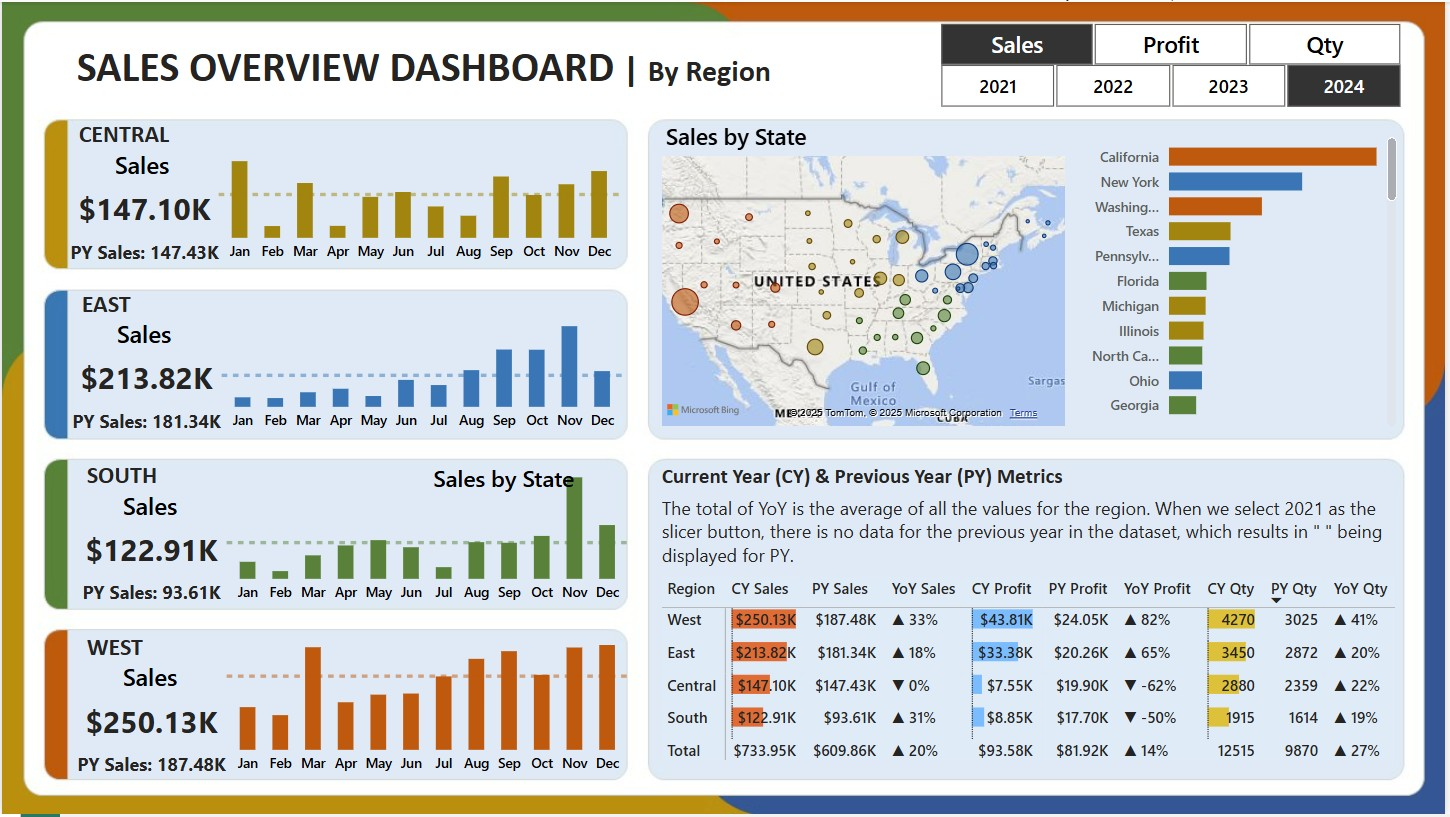

What the dashboard file says about the page in this screenshot:
{"tool":"powerbi","page":{"name":"Page 1","canvas":[1280,720],"ordinal":0},"visuals":[{"type":"slicer","fields":{"Values":["Select Matric.Select Matric"]},"box":[807.1,12.3,457.3,47.6],"z":0},{"type":"card","fields":{"Values":["Calculated Measures.Total Sales"]},"box":[47.6,162.6,156.5,44.5],"z":1000},{"type":"textbox","box":[62.9,99.7,124.3,46],"z":2000},{"type":"slicer","fields":{"Values":["Calender Table.Year"]},"box":[807.1,49.1,457.3,50.6],"z":3000},{"type":"card","fields":{"Values":["Calculated Measures.Dynamic Title"]},"box":[75.2,130.4,98.2,32.2],"z":4000},{"type":"card","fields":{"Values":["Calculated Measures.PY KPI Sales"]},"box":[47.6,207.1,156.5,32.2],"z":5000},{"type":"clusteredColumnChart","fields":{"Y":["Calculated Measures.Total Sales"],"Category":["Calender Table.Month"]},"box":[187.2,101.3,366.7,138.1],"z":6000},{"type":"textbox","box":[61.5,28.8,636,71.1],"z":7000},{"type":"card","fields":{"Values":["Calculated Measures.Total Sales"]},"box":[49.9,312.5,156.5,44.5],"z":8000},{"type":"textbox","box":[65.2,249.6,124.3,46],"z":9000},{"type":"card","fields":{"Values":["Calculated Measures.Dynamic Title"]},"box":[77.5,280.3,98.2,32.2],"z":10000},{"type":"card","fields":{"Values":["Calculated Measures.PY KPI Sales"]},"box":[49.9,357,156.5,32.2],"z":11000},{"type":"clusteredColumnChart","fields":{"Y":["Calculated Measures.Total Sales"],"Category":["Calender Table.Month"]},"box":[189.5,251.1,366.7,138.1],"z":12000},{"type":"card","fields":{"Values":["Calculated Measures.Total Sales"]},"box":[54.5,464.7,156.5,44.5],"z":13000},{"type":"textbox","box":[69.8,401.8,124.3,46],"z":14000},{"type":"card","fields":{"Values":["Calculated Measures.Dynamic Title"]},"box":[82.1,432.5,98.2,32.2],"z":15000},{"type":"card","fields":{"Values":["Calculated Measures.PY KPI Sales"]},"box":[54.5,509.2,156.5,32.2],"z":16000},{"type":"clusteredColumnChart","fields":{"Y":["Calculated Measures.Total Sales"],"Category":["Calender Table.Month"]},"box":[194.1,403.3,366.7,138.1],"z":17000},{"type":"card","fields":{"Values":["Calculated Measures.Total Sales"]},"box":[54.5,616.9,156.5,44.5],"z":18000},{"type":"textbox","box":[69.8,554,124.3,46],"z":19000},{"type":"card","fields":{"Values":["Calculated Measures.Dynamic Title"]},"box":[82.1,584.6,98.2,32.2],"z":20000},{"type":"card","fields":{"Values":["Calculated Measures.PY KPI Sales"]},"box":[54.5,661.4,156.5,32.2],"z":21000},{"type":"clusteredColumnChart","fields":{"Y":["Calculated Measures.Total Sales"],"Category":["Calender Table.Month"]},"box":[194.1,555.5,366.7,138.1],"z":22000},{"type":"map","fields":{"Size":["Calculated Measures.Total Sales"],"Series":["Sales Data.Region"],"Category":["Sales Data.State/Province"]},"box":[580.1,131.2,368.2,249.7],"z":23000},{"type":"card","fields":{"Values":["Calculated Measures.MAP Dynamic Title"]},"box":[557.2,96.1,188.3,50],"z":24000},{"type":"barChart","fields":{"Y":["Calculated Measures.Total Sales"],"Category":["Sales Data.State/Province"],"Series":["Sales Data.Region"]},"box":[948.3,107.2,292.6,273.7],"z":25000},{"type":"card","fields":{"Values":["Calculated Measures.MAP Dynamic Title"]},"box":[349.8,408.2,188.7,32.2],"z":26000},{"type":"pivotTable","fields":{"Values":["Calculated Measures.CY Sales","Calculated Measures.PY Sales","Calculated Measures.YoY Sales","Calculated Measures.CY Profit","Calculated Measures.PY Profit","Calculated Measures.YoY Profit","Calculated Measures.CY Qty","Calculated Measures.PY Qty","Calculated Measures.YoY Qty"],"Rows":["Sales Data.Region"]},"box":[580,504.4,660.8,189.2],"z":27000},{"type":"textbox","box":[580,403.6,380.5,46],"z":28000},{"type":"textbox","box":[580,432.7,661.3,76.7],"z":28001}]}

Visuals, with their boxes in screenshot pixels (x1, y1, x2, y2), scaled from the page's 1280x720 canvas onto the 1450x817 screenshot:
slicer - Select Matric.Select Matric: BBox(914, 14, 1432, 68)
card - Calculated Measures.Total Sales: BBox(54, 185, 231, 235)
textbox: BBox(71, 113, 212, 165)
slicer - Calender Table.Year: BBox(914, 56, 1432, 113)
card - Calculated Measures.Dynamic Title: BBox(85, 148, 196, 185)
card - Calculated Measures.PY KPI Sales: BBox(54, 235, 231, 272)
clusteredColumnChart - Calculated Measures.Total Sales x Calender Table.Month: BBox(212, 115, 627, 272)
textbox: BBox(70, 33, 790, 113)
card - Calculated Measures.Total Sales: BBox(57, 355, 234, 405)
textbox: BBox(74, 283, 215, 335)
card - Calculated Measures.Dynamic Title: BBox(88, 318, 199, 355)
card - Calculated Measures.PY KPI Sales: BBox(57, 405, 234, 442)
clusteredColumnChart - Calculated Measures.Total Sales x Calender Table.Month: BBox(215, 285, 630, 442)
card - Calculated Measures.Total Sales: BBox(62, 527, 239, 578)
textbox: BBox(79, 456, 220, 508)
card - Calculated Measures.Dynamic Title: BBox(93, 491, 204, 527)
card - Calculated Measures.PY KPI Sales: BBox(62, 578, 239, 614)
clusteredColumnChart - Calculated Measures.Total Sales x Calender Table.Month: BBox(220, 458, 635, 614)
card - Calculated Measures.Total Sales: BBox(62, 700, 239, 751)
textbox: BBox(79, 629, 220, 681)
card - Calculated Measures.Dynamic Title: BBox(93, 663, 204, 700)
card - Calculated Measures.PY KPI Sales: BBox(62, 751, 239, 787)
clusteredColumnChart - Calculated Measures.Total Sales x Calender Table.Month: BBox(220, 630, 635, 787)
map - Calculated Measures.Total Sales x Sales Data.Region: BBox(657, 149, 1074, 432)
card - Calculated Measures.MAP Dynamic Title: BBox(631, 109, 845, 166)
barChart - Calculated Measures.Total Sales x Sales Data.State/Province: BBox(1074, 122, 1406, 432)
card - Calculated Measures.MAP Dynamic Title: BBox(396, 463, 610, 500)
pivotTable - Calculated Measures.CY Sales x Calculated Measures.PY Sales: BBox(657, 572, 1406, 787)
textbox: BBox(657, 458, 1088, 510)
textbox: BBox(657, 491, 1406, 578)
